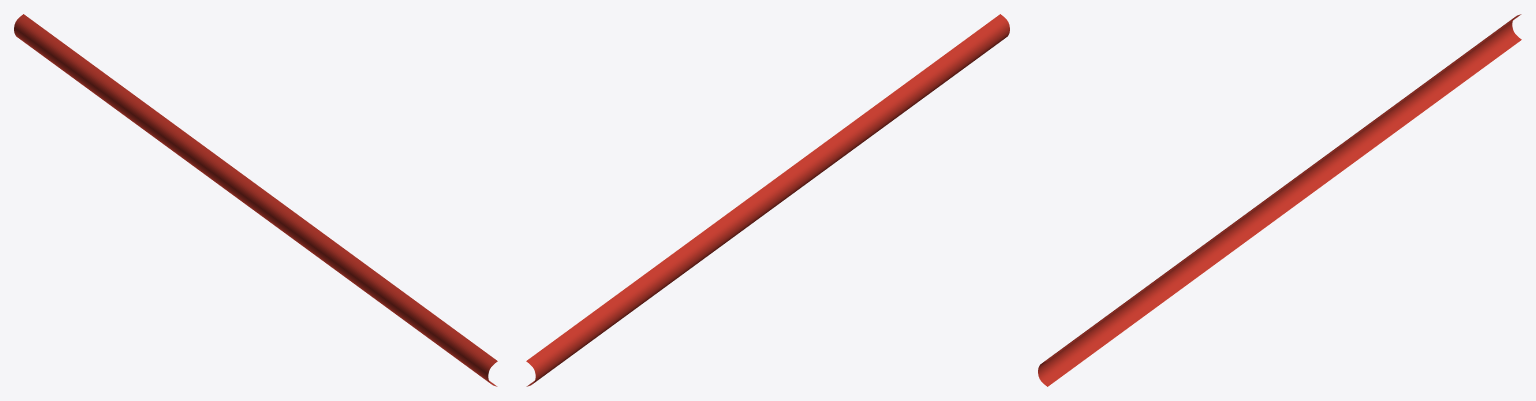
The model's file is LightSupport.fbx.
The picture shows the model from 3 angles, left to right: view 1: azimuth 30°, elevation 25°; view 2: azimuth 150°, elevation 25°; view 3: azimuth 330°, elevation 25°; orthographic projection.
Parts seen in each view (by area): view 1: LightSupport; view 2: LightSupport; view 3: LightSupport.
Part boxes in pixels (x1,y1,x2,y2): LightSupport: (14,14,497,386); LightSupport: (526,14,1009,386); LightSupport: (1038,14,1521,386).
Size of the model in its own units: 2.33 by 6 by 200.
